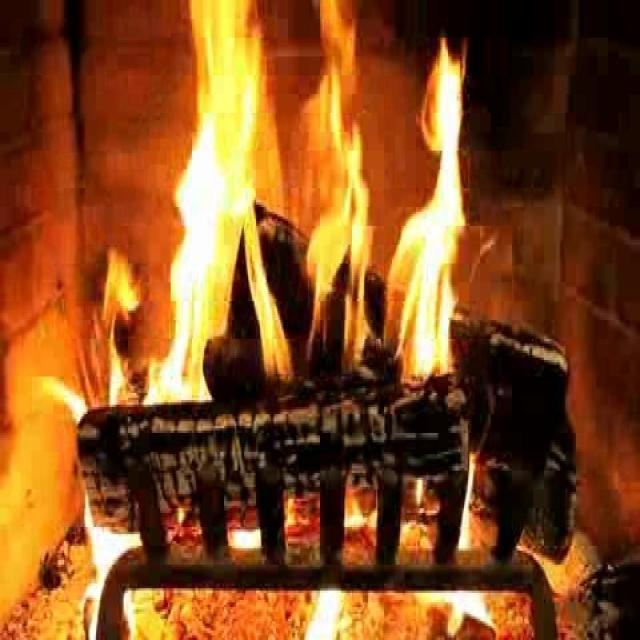Fire: (13, 14, 640, 423)
